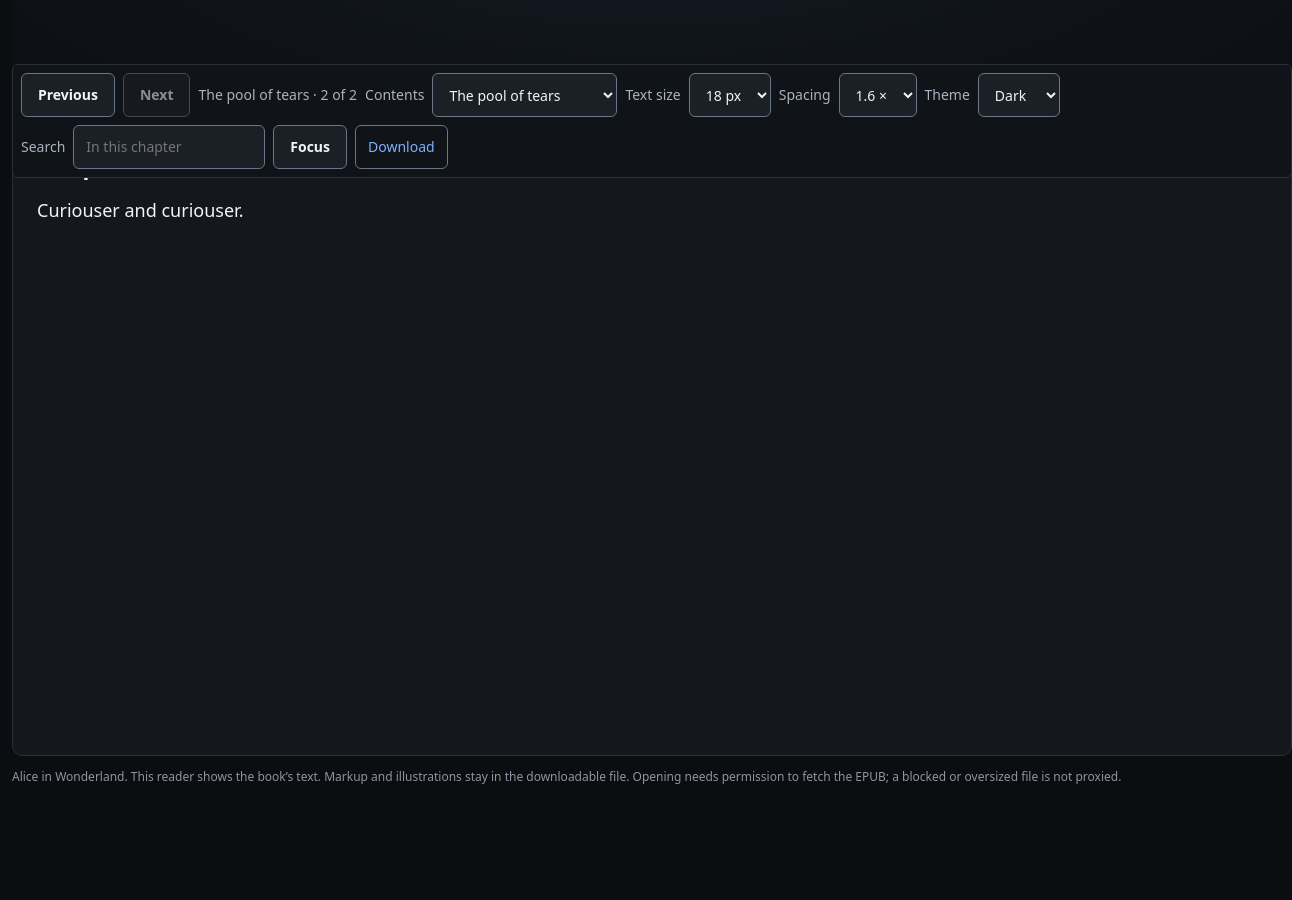
Test case: BookReader › restores a saved chapter and reports progress when the chapter changes
Check: the text "Curiouser and curiouser." is shown, box [37, 198, 244, 222]
Click the button with aria-label "Previous chapter" at [68, 95], box [21, 73, 115, 117]
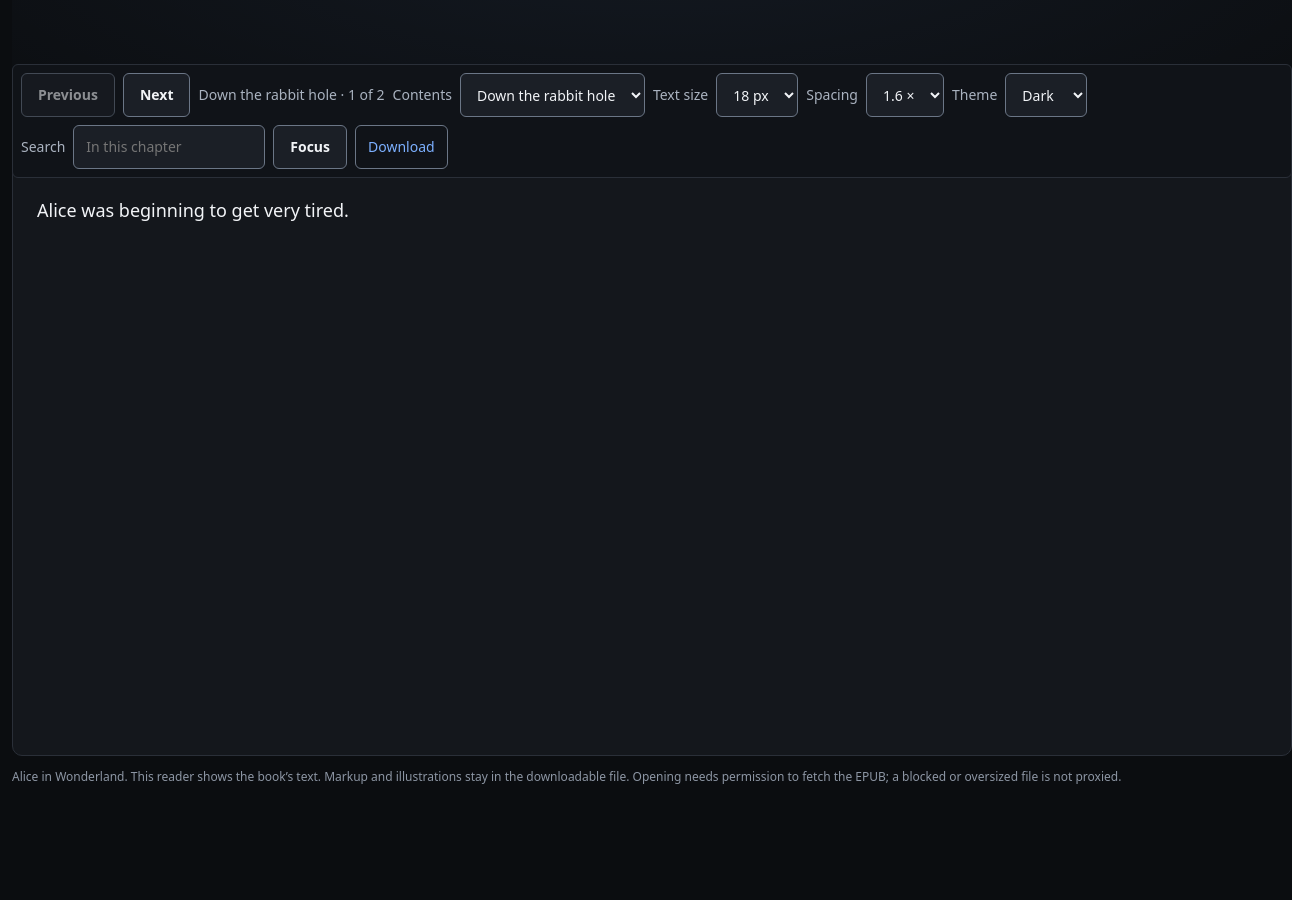
Check: the text "Alice was beginning to get very tired." is shown, box [37, 198, 349, 222]
